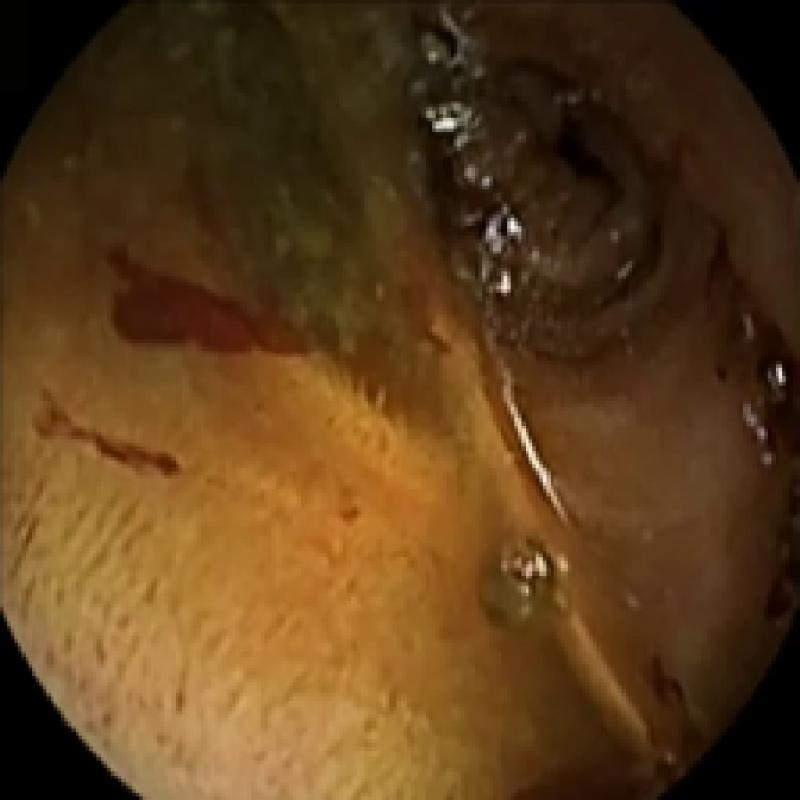bleeding: (707, 243, 800, 621), (98, 238, 330, 354), (34, 388, 181, 481)
